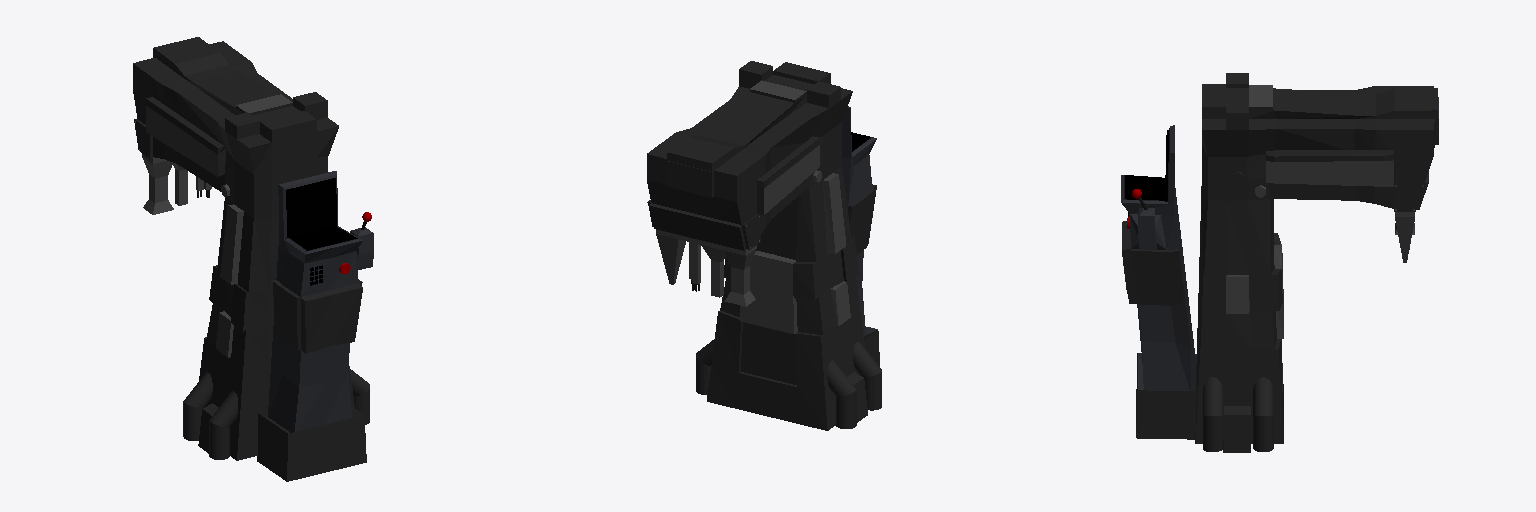
Rendered from MachineDesign.obj.
3 views of the same model, side by side, from view 1: azimuth 30°, elevation 25°; view 2: azimuth 150°, elevation 25°; view 3: azimuth 270°, elevation 25° (orthographic).
Visible parts, largest first — view 1: Bolt_Bolt.019; view 2: Bolt_Bolt.019; view 3: Bolt_Bolt.019.
Part boxes in pixels (bbox=[...]): Bolt_Bolt.019: bbox=[133, 37, 373, 481]; Bolt_Bolt.019: bbox=[647, 61, 881, 430]; Bolt_Bolt.019: bbox=[1121, 73, 1438, 452].
Bounding box in the file's own units: 2.71 × 5.38 × 4.7.